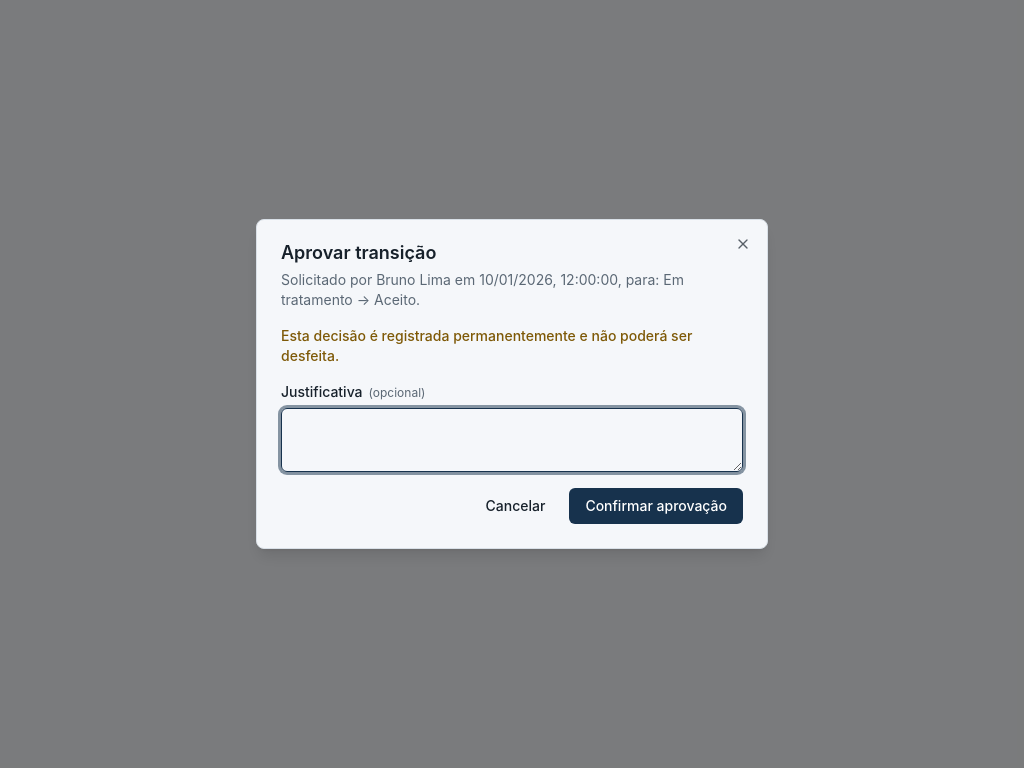
it: ApprovalDecisionDialog › surfaces the server's own segregation-of-duties refusal verbatim (FR-029a) rather than a generic error
Click the button "Confirmar aprovação". click: (656,506)
box: [569,488,743,524]
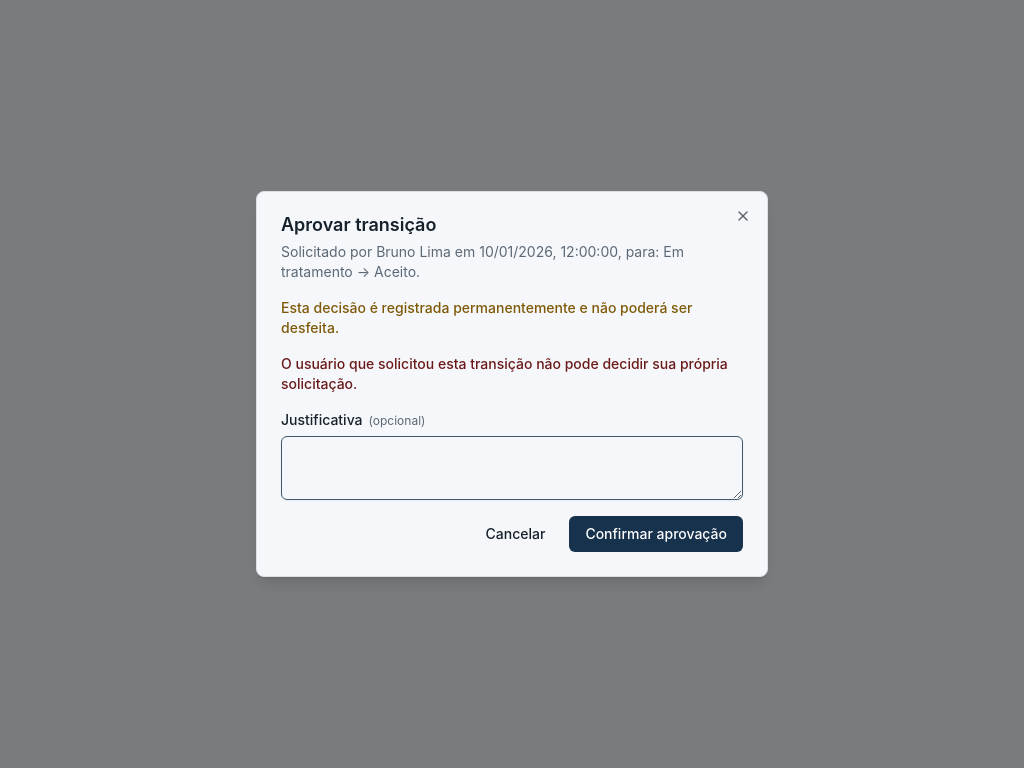
expect the text "O usuário que solicitou esta transição não pode decidir sua própria solicitação." is shown: met, box [281,354,743,394]
